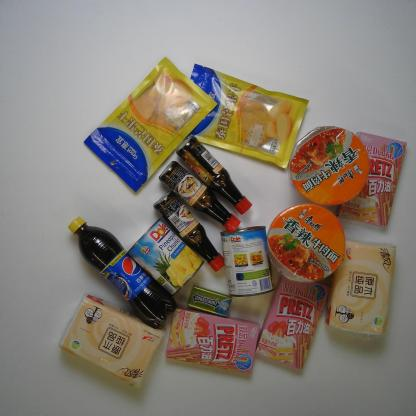Canned Food: (128, 217, 214, 300), (220, 225, 288, 303)
Dessert: (251, 265, 335, 377), (163, 300, 261, 382), (338, 122, 406, 234)
Dried Fruit: (76, 41, 220, 196), (181, 51, 310, 174)
Drink: (63, 213, 181, 334)
Gum: (181, 276, 237, 322)
Instant Noodles: (281, 110, 373, 215), (262, 196, 351, 286)
Seasoner: (172, 130, 263, 218), (146, 186, 232, 276), (154, 159, 238, 234)
Tissue: (48, 285, 172, 395), (322, 234, 403, 345)
